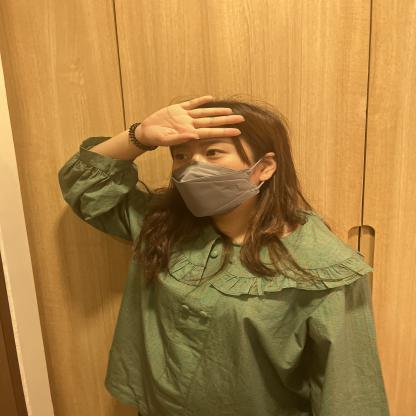Sick: (16, 50, 351, 198)
